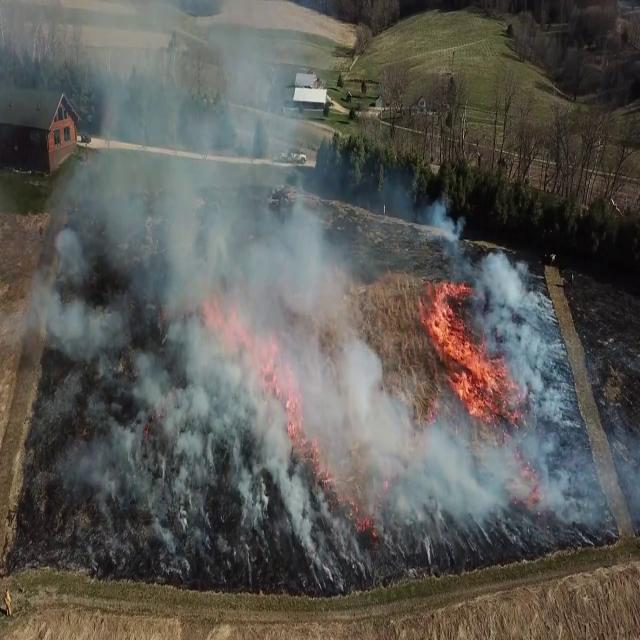Fire: (417, 280, 509, 420)
Smoke: (22, 4, 356, 575), (338, 384, 536, 538), (463, 234, 549, 398)
